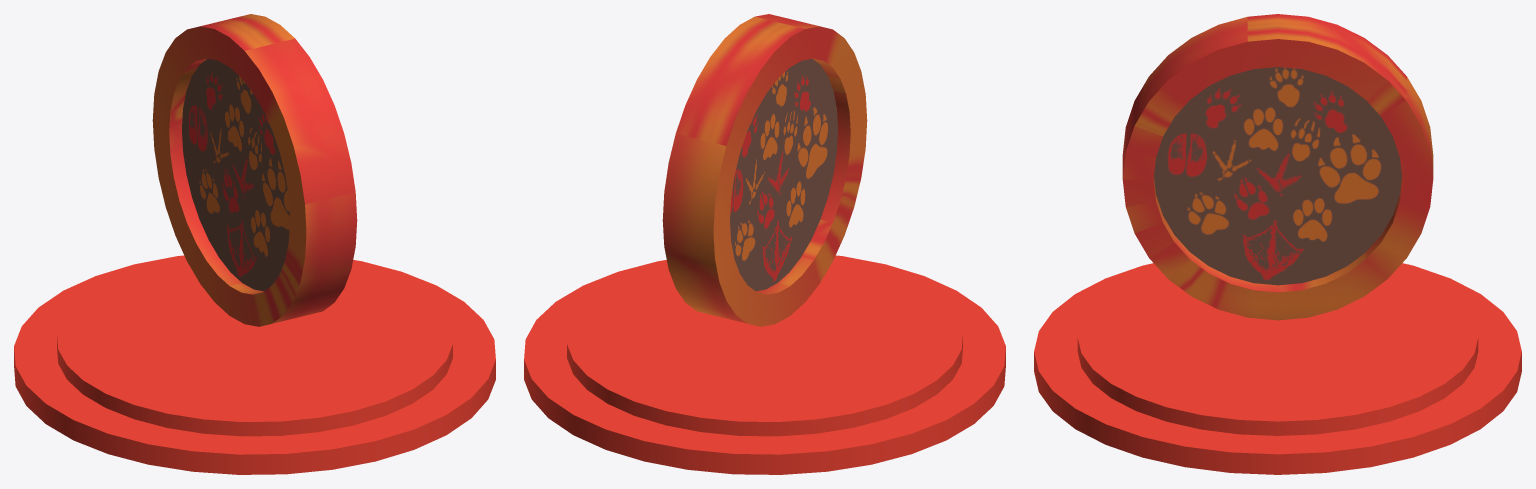
File: CheckpointFauna.fbx
The picture shows the model from 3 angles, left to right: view 1: azimuth 30°, elevation 25°; view 2: azimuth 150°, elevation 25°; view 3: azimuth 270°, elevation 25°; orthographic projection.
Visible parts, largest first — view 1: Cilindro, Cilindro.001; view 2: Cilindro, Cilindro.001; view 3: Cilindro, Cilindro.001.
Boxes of the visible parts, bbox=[...] form: Cilindro: bbox=[14, 255, 495, 474]; Cilindro.001: bbox=[152, 14, 357, 326]; Cilindro: bbox=[524, 255, 1005, 474]; Cilindro.001: bbox=[662, 14, 867, 326]; Cilindro: bbox=[1034, 263, 1521, 474]; Cilindro.001: bbox=[1122, 14, 1433, 320].
Size of the model in its own units: 314 by 245 by 314.
Materials: 2 (1 with a texture image).
